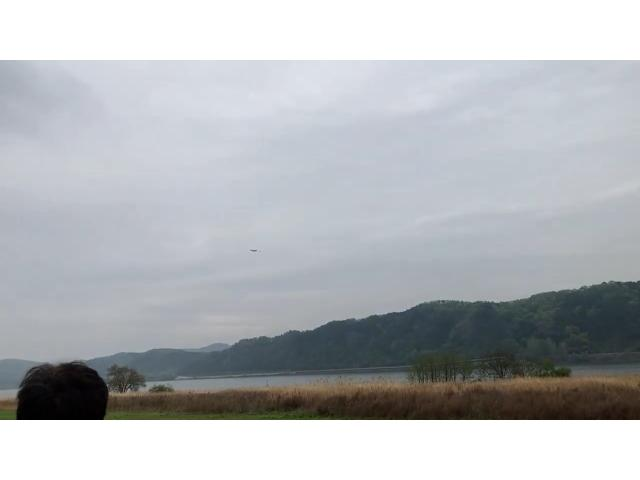Anti-Drone: (241, 247, 269, 257)
